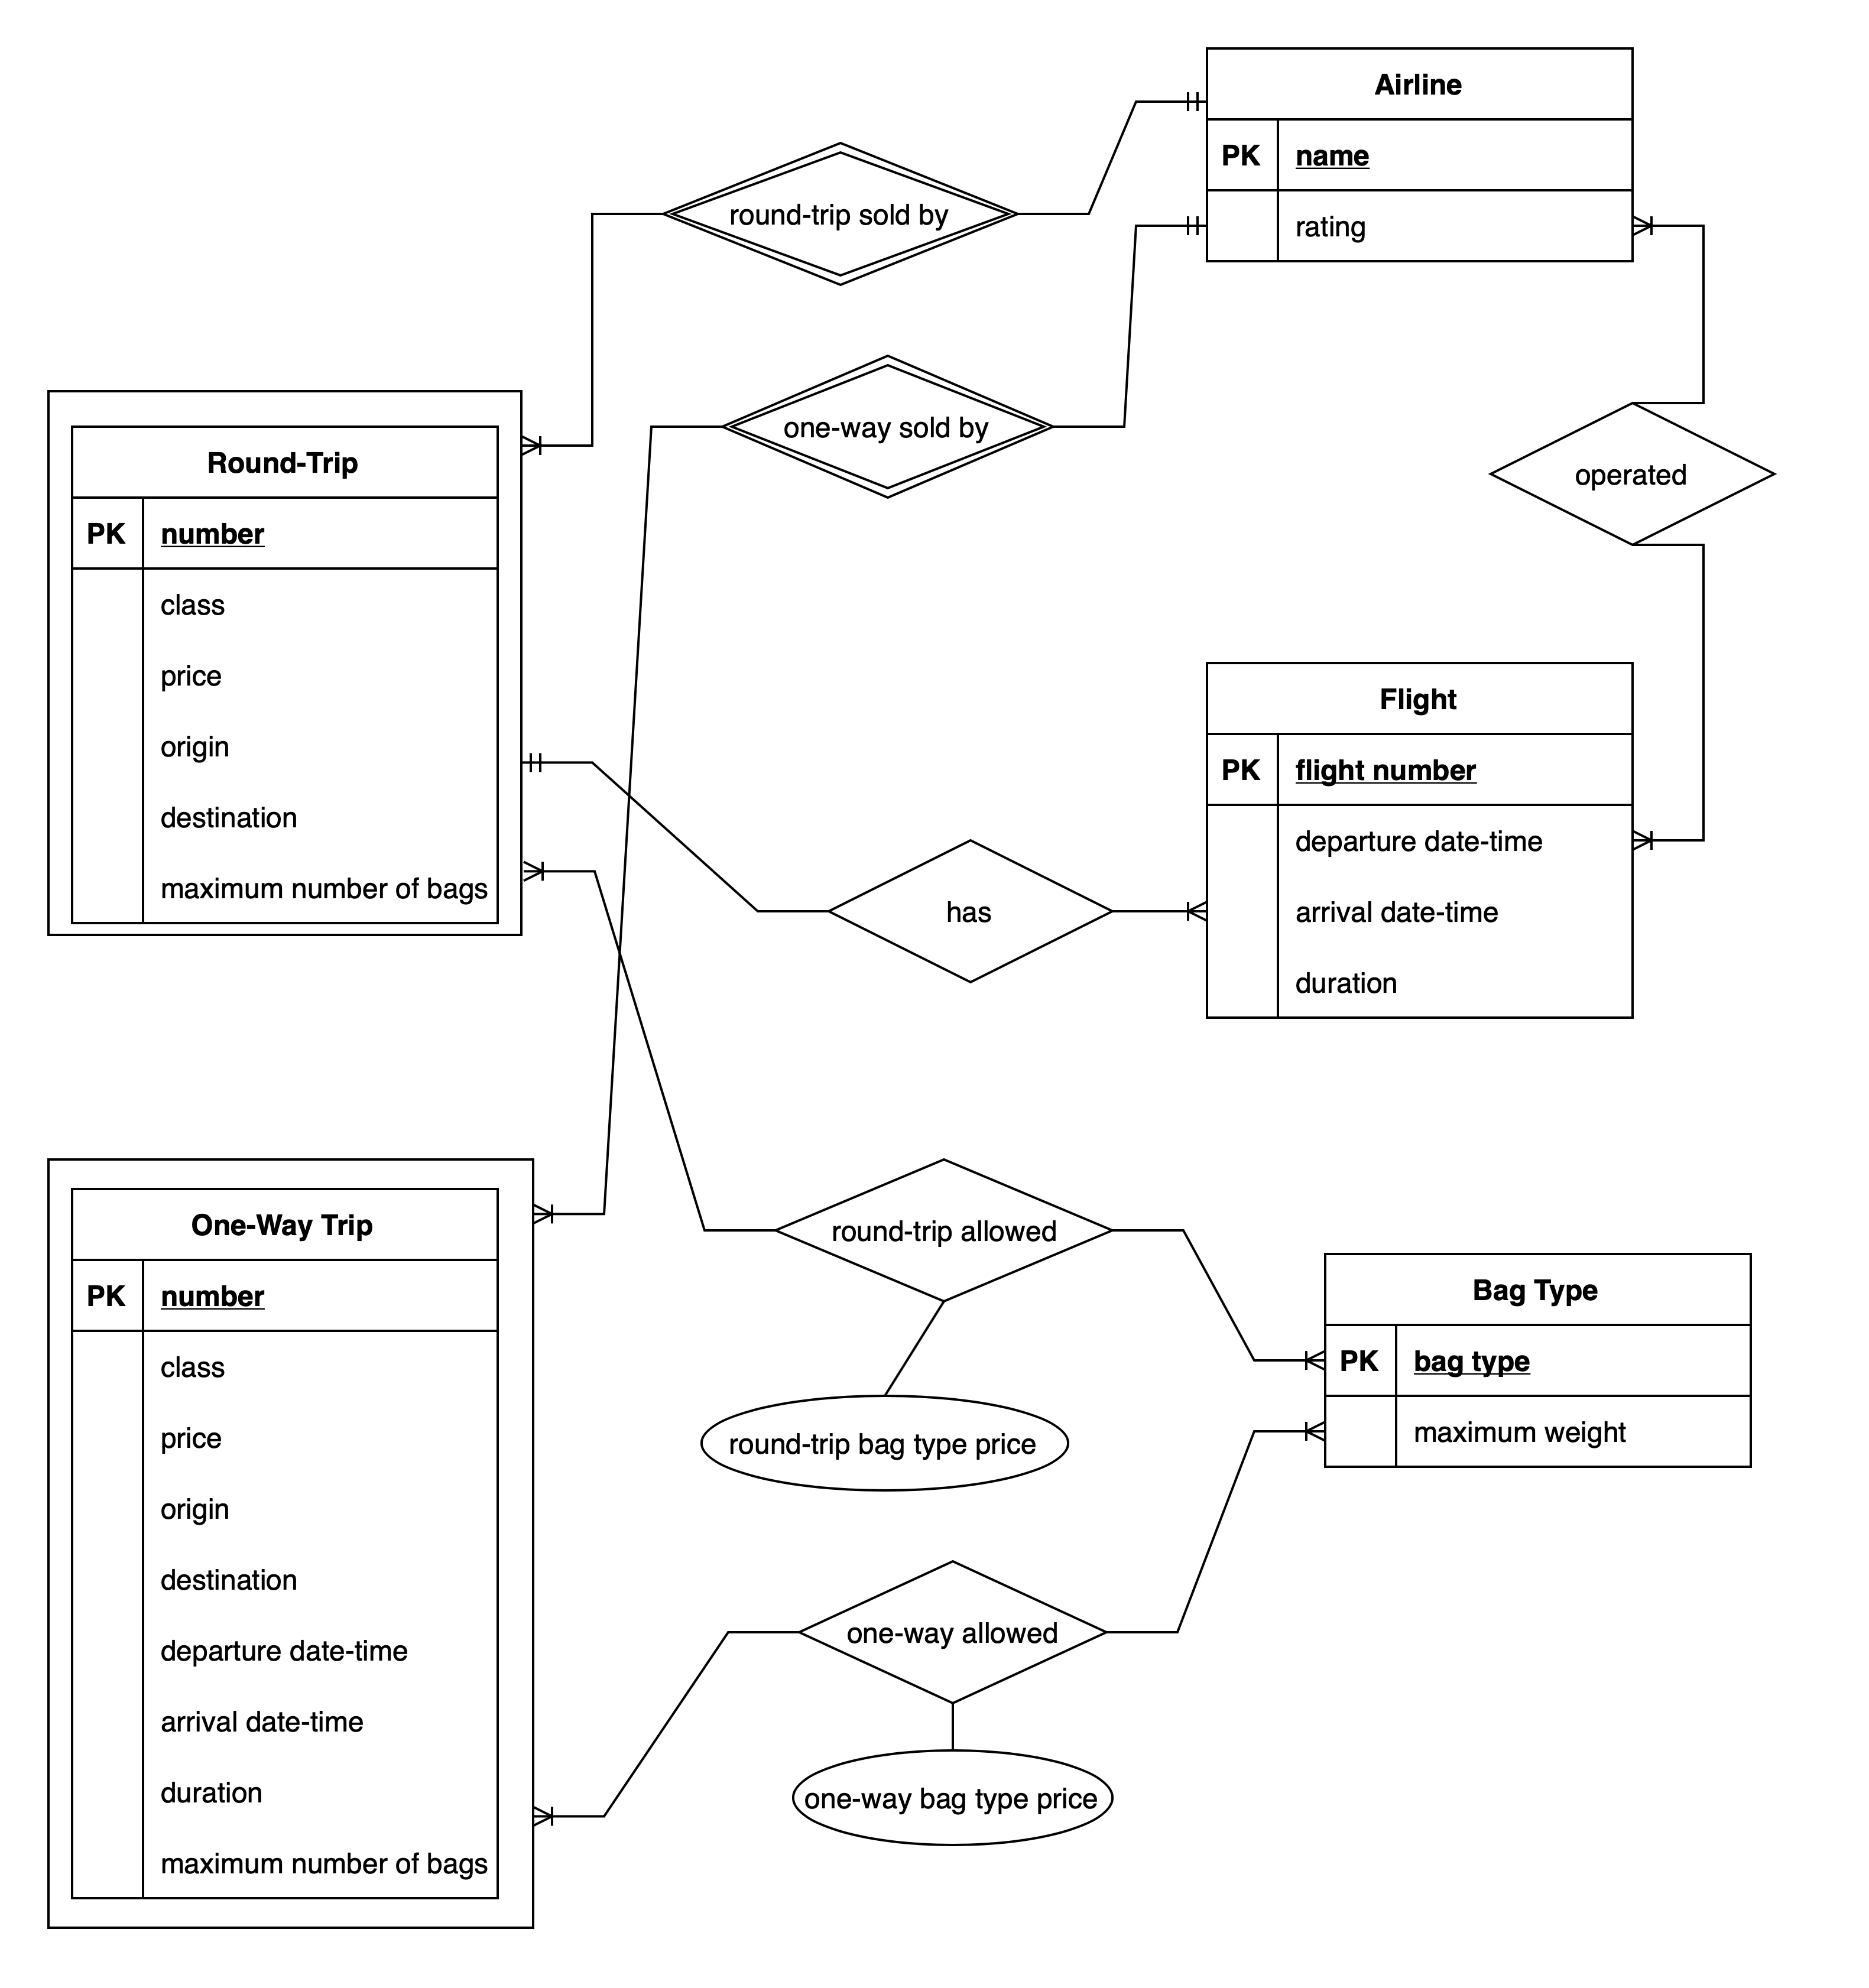entity: (1205, 657, 1634, 1020), (1321, 1252, 1755, 1472), (1201, 46, 1630, 258)
ident_rel: (662, 133, 1017, 290), (725, 353, 1050, 502)
many: (1251, 1326, 1328, 1394), (1135, 876, 1212, 940), (1628, 193, 1704, 256), (529, 1784, 608, 1844), (1634, 810, 1704, 875), (530, 1182, 603, 1238), (518, 845, 597, 896), (518, 420, 594, 472), (1251, 1408, 1323, 1452)
one: (520, 727, 603, 797), (1133, 198, 1207, 256), (1135, 77, 1205, 130)
rel: (773, 1156, 1112, 1301), (803, 1561, 1105, 1700), (1486, 399, 1774, 543), (833, 838, 1115, 980)
rel_attr: (703, 1396, 1073, 1491), (789, 1753, 1115, 1853)
weak_entity: (46, 1156, 534, 1928), (47, 386, 525, 936)
